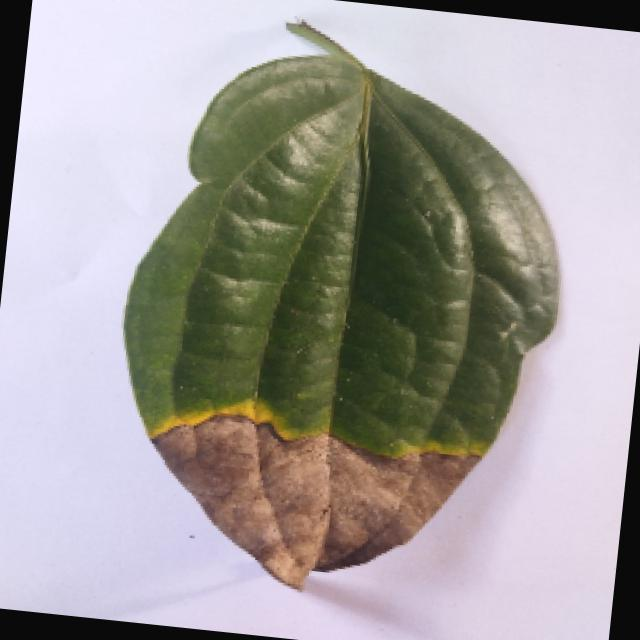footrot: (63, 18, 598, 640)
